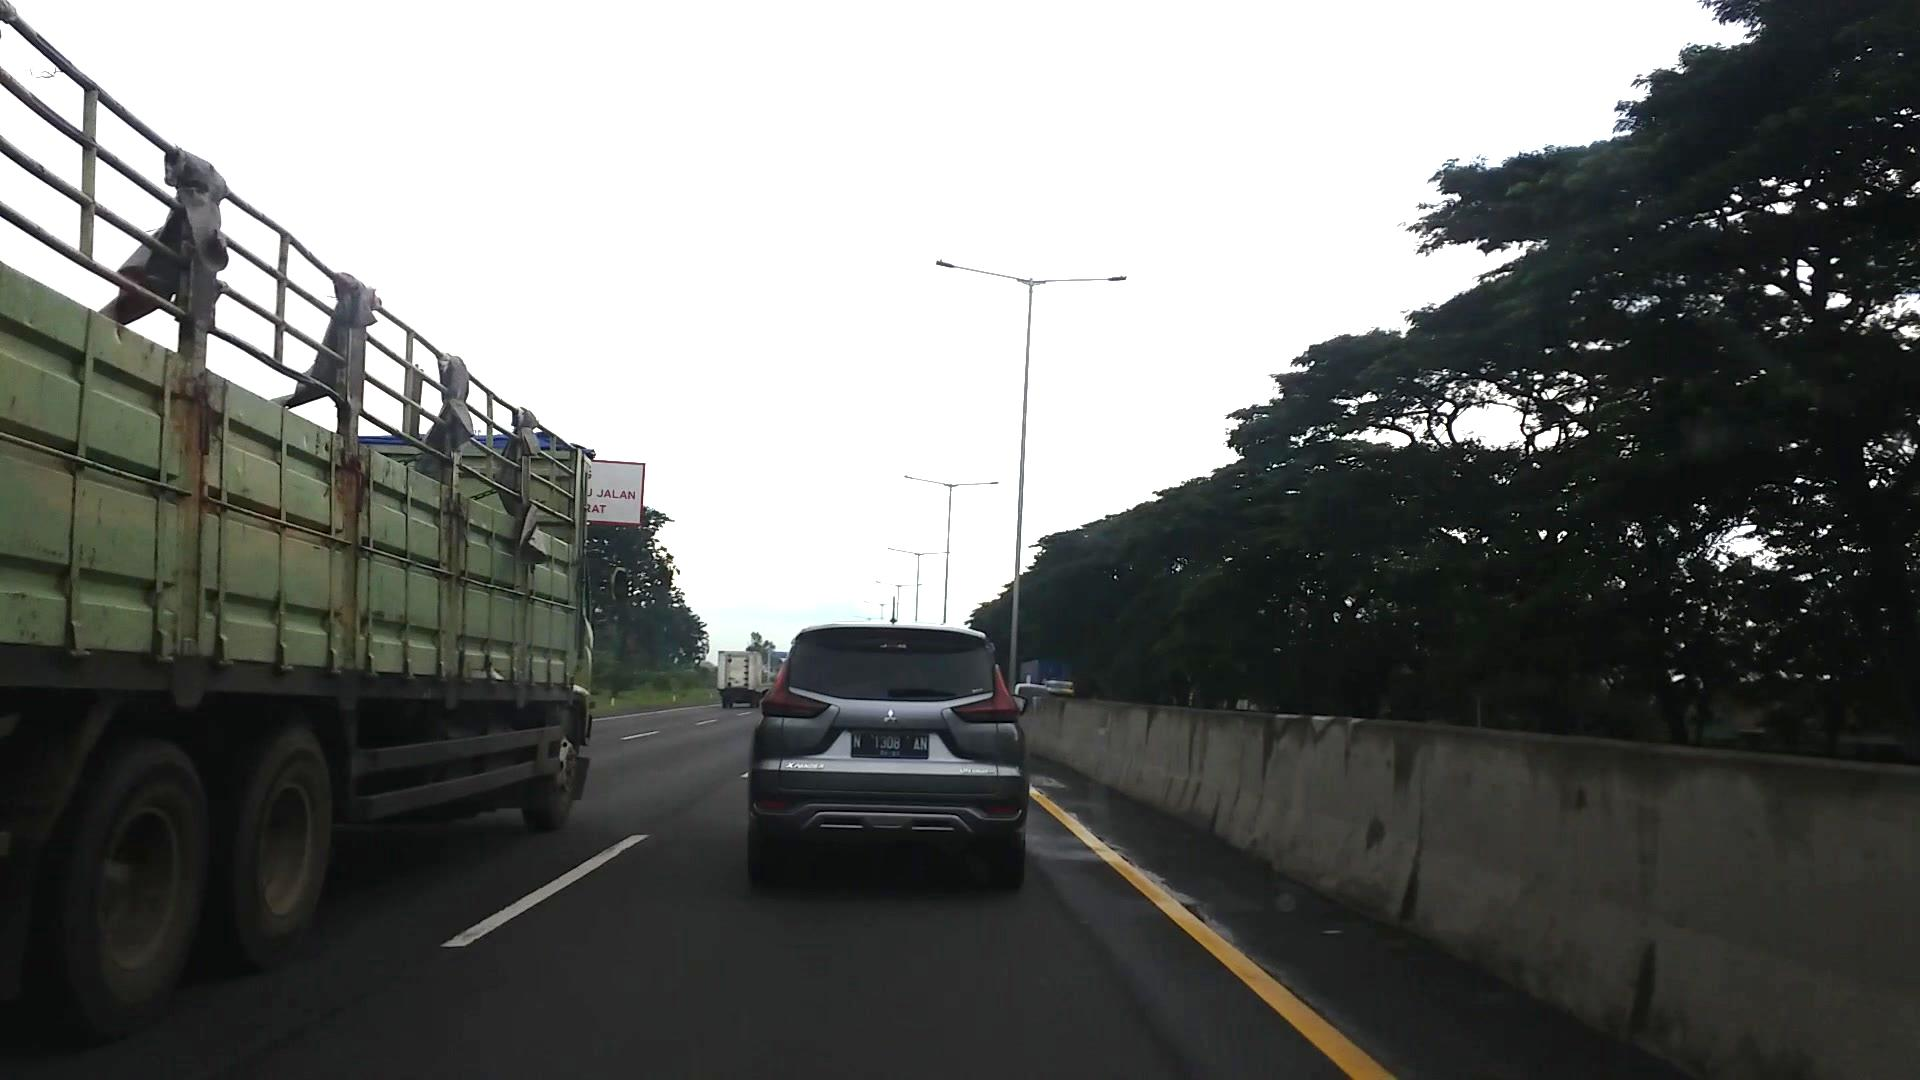plate_positive: (851, 731, 928, 760)
